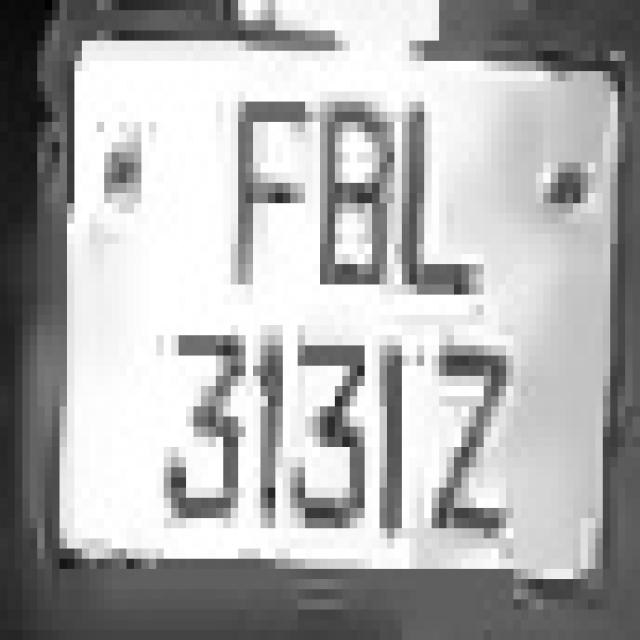1: (246, 305, 290, 528), (365, 305, 402, 538)
3: (156, 294, 246, 538), (298, 315, 372, 548)
B: (305, 61, 402, 325)
F: (216, 51, 312, 335)
L: (387, 61, 476, 315)
Z: (424, 315, 528, 548)
